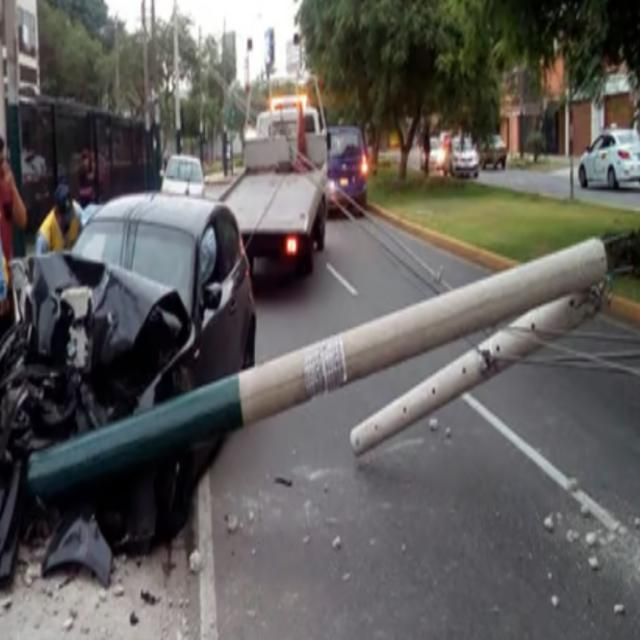Inclined Pole: (24, 234, 612, 511)
